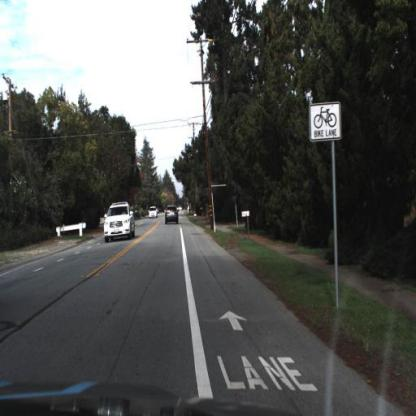car: (103, 200, 137, 242), (165, 204, 182, 228)
